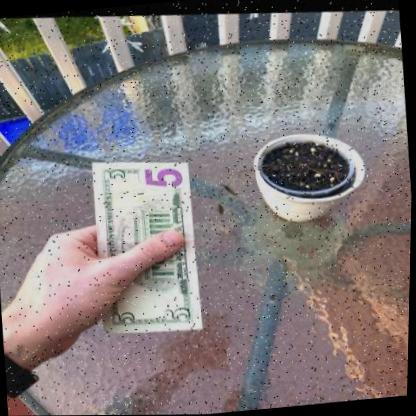five-back: (89, 153, 206, 336)
